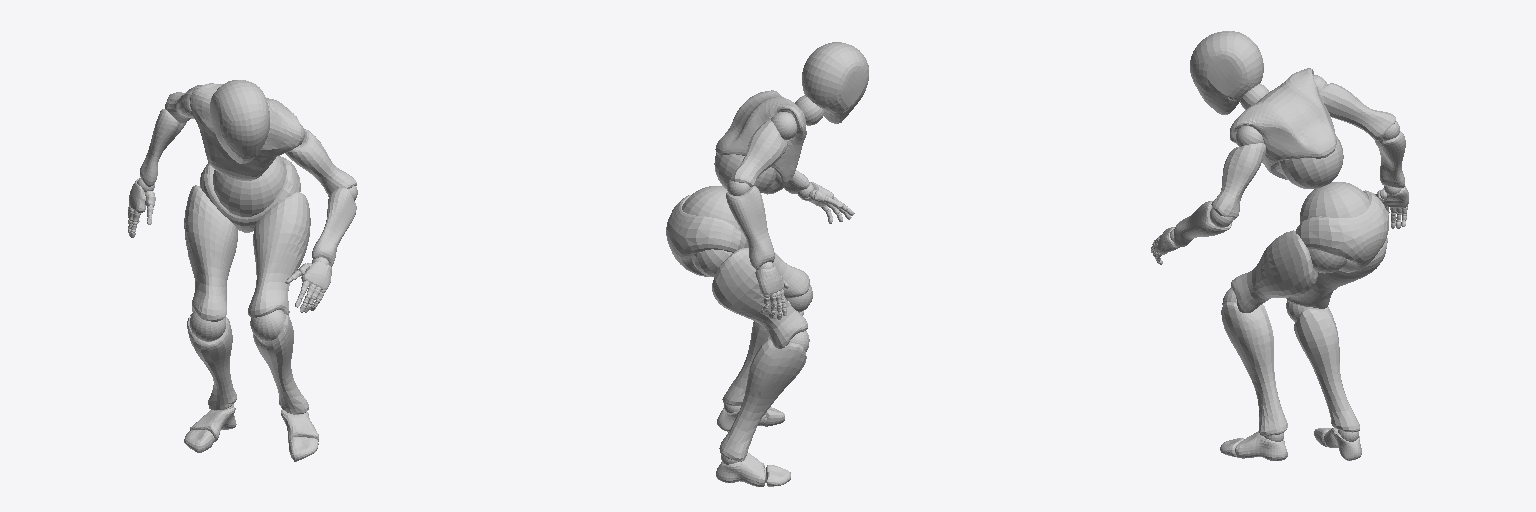
3 views of the same model, side by side, from view 1: azimuth 30°, elevation 25°; view 2: azimuth 150°, elevation 25°; view 3: azimuth 270°, elevation 25° (orthographic).
Parts seen in each view (by area): view 1: Beta_Surface, Beta_Joints; view 2: Beta_Surface, Beta_Joints; view 3: Beta_Surface, Beta_Joints.
Boxes of the visible parts, box(x1,y1,x2,y2) form: Beta_Surface: box(128, 80, 356, 461); Beta_Joints: box(128, 104, 357, 442); Beta_Surface: box(666, 42, 868, 486); Beta_Joints: box(682, 95, 849, 482); Beta_Surface: box(1151, 31, 1408, 460); Beta_Joints: box(1151, 75, 1407, 444).
Bounding box in the file's own units: 0.5478 × 1.47 × 0.8546.